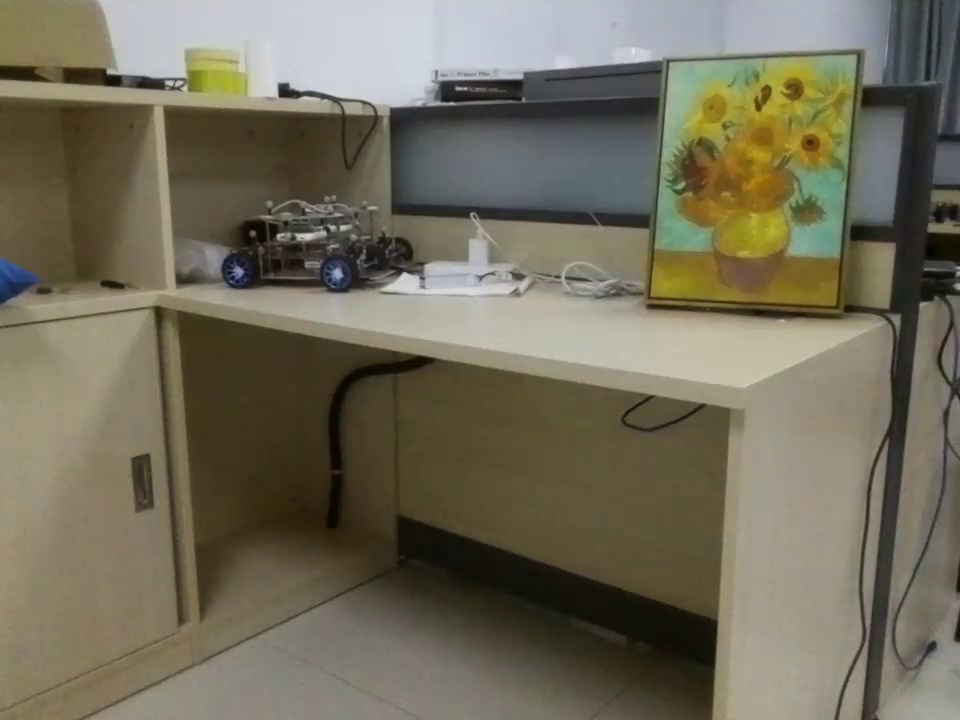painting: (654, 56, 859, 316)
